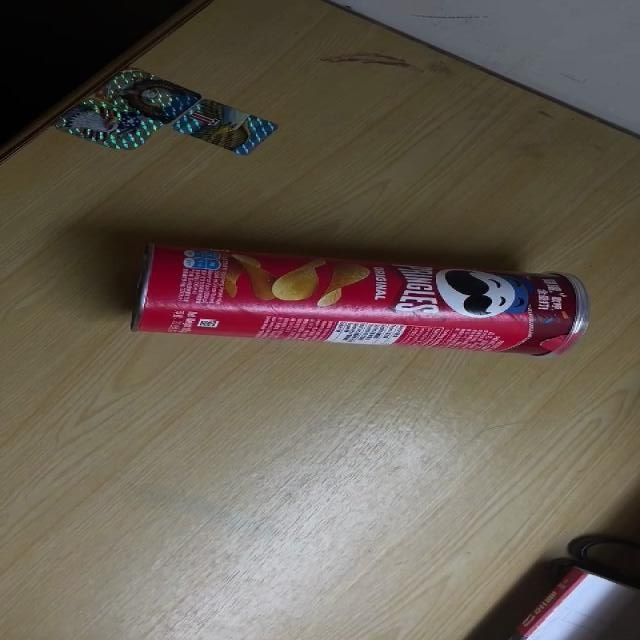Pringles: (129, 248, 588, 359)
